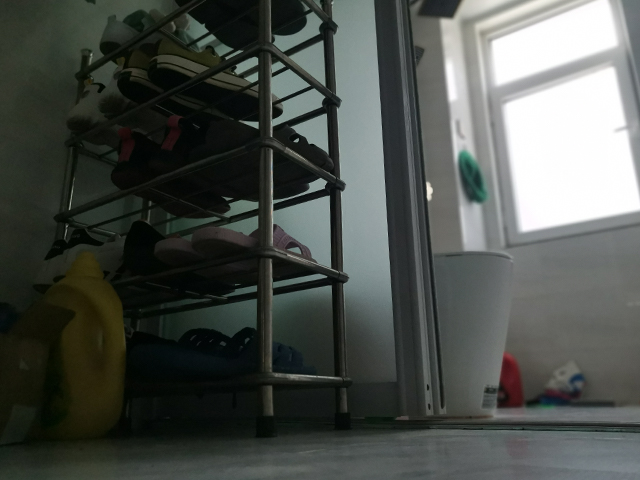closestool: (430, 248, 519, 419)
slippers: (123, 327, 322, 386)
